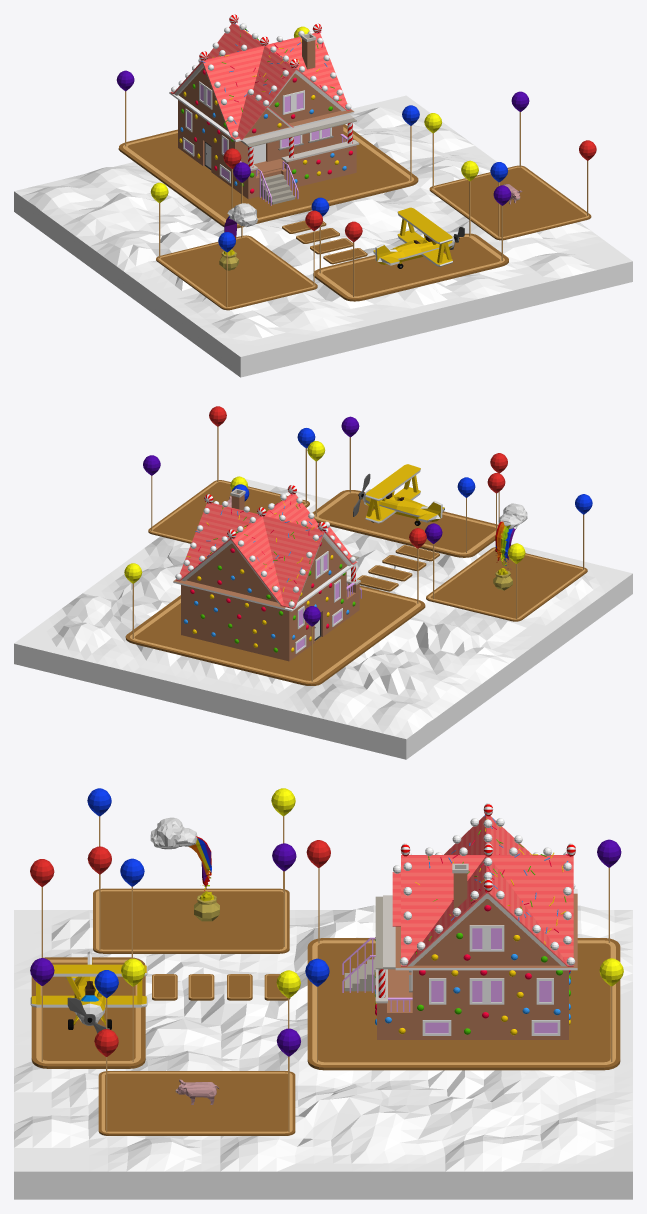
The picture shows the model from 3 angles, top to bottom: view 1: azimuth 30°, elevation 25°; view 2: azimuth 150°, elevation 25°; view 3: azimuth 270°, elevation 25°; orthographic projection. The views are drawn at different scales.
Parts seen in each view (by area): view 1: Cube.013, Cube.1203, VEHICLES_AIRPLANE, OBJRANDOM_RAINBOW; view 2: Cube.013, Cube.1203, VEHICLES_AIRPLANE, OBJRANDOM_RAINBOW; view 3: Cube.013, Cube.1203, VEHICLES_AIRPLANE, OBJRANDOM_RAINBOW, ANIMAL_CERDO.
Part boxes in pixels (x1=…): Cube.013: x1=14, y1=26, x2=632, y2=377; Cube.1203: x1=169, y1=14, x2=359, y2=205; VEHICLES_AIRPLANE: x1=373, y1=207, x2=464, y2=268; OBJRANDOM_RAINBOW: x1=219, y1=203, x2=257, y2=270; Cube.013: x1=14, y1=406, x2=632, y2=759; Cube.1203: x1=173, y1=485, x2=361, y2=661; VEHICLES_AIRPLANE: x1=353, y1=464, x2=444, y2=525; OBJRANDOM_RAINBOW: x1=493, y1=503, x2=527, y2=590; Cube.013: x1=14, y1=788, x2=632, y2=1199; Cube.1203: x1=342, y1=803, x2=577, y2=1039; VEHICLES_AIRPLANE: x1=30, y1=951, x2=147, y2=1033; OBJRANDOM_RAINBOW: x1=150, y1=817, x2=219, y2=921; ANIMAL_CERDO: x1=175, y1=1079, x2=219, y2=1104.
Bounding box in the file's own units: 4000 × 1841 × 4000.
Materials: 50 (2 with a texture image).
